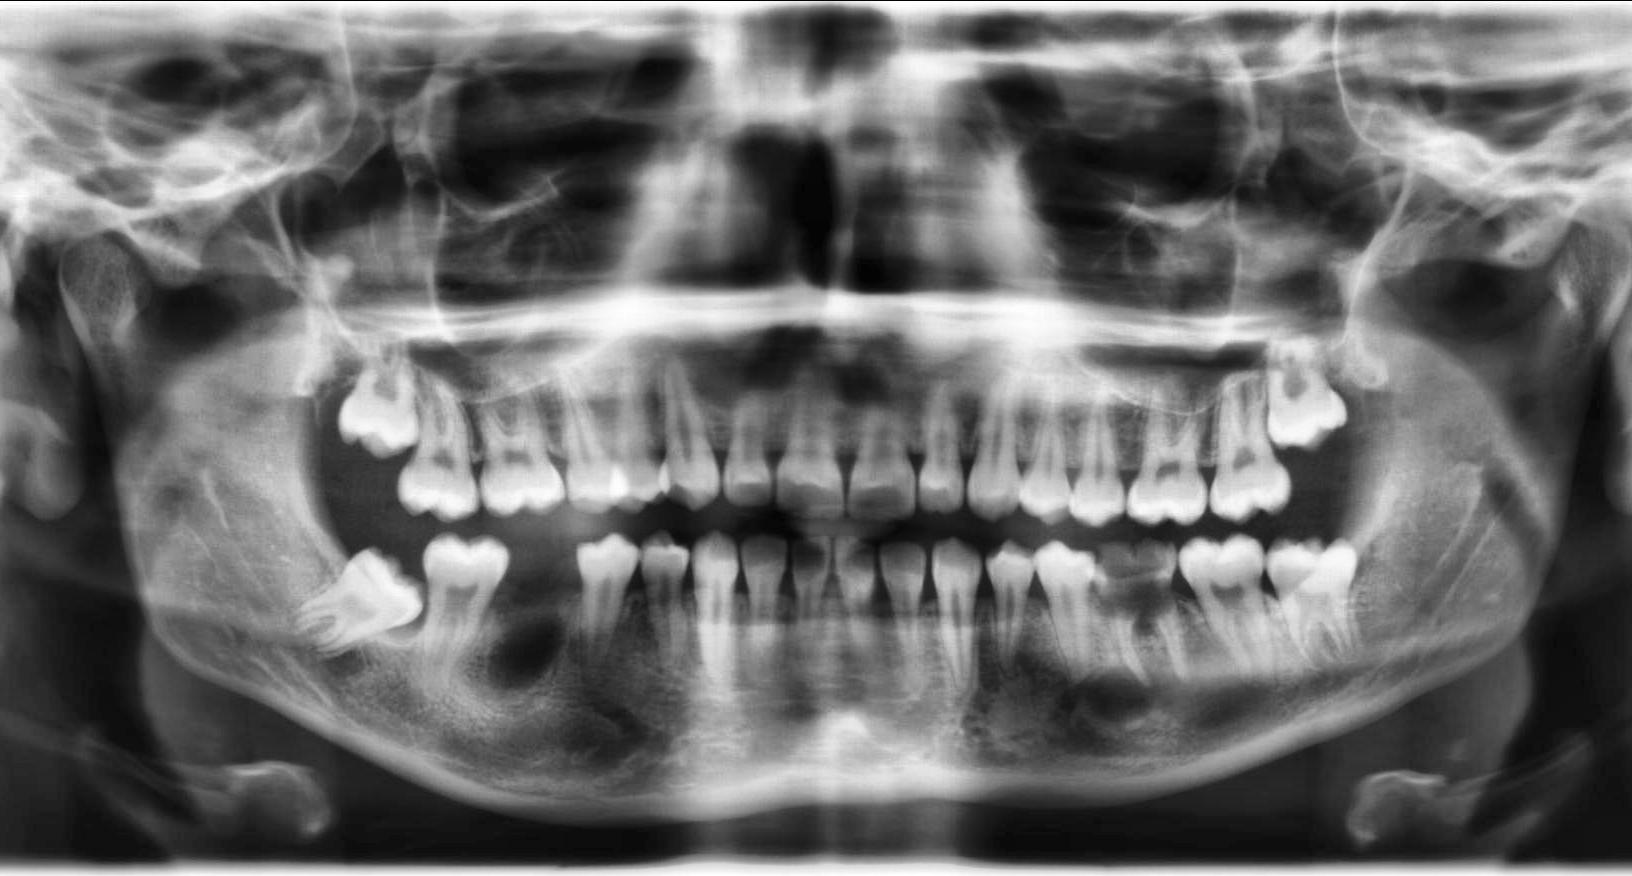radikuler: (1084, 663, 1160, 725)
